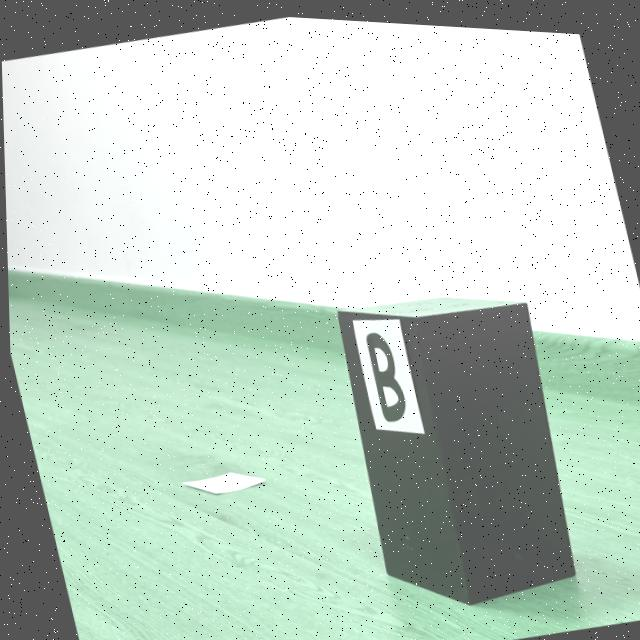B: (364, 327, 403, 417)
